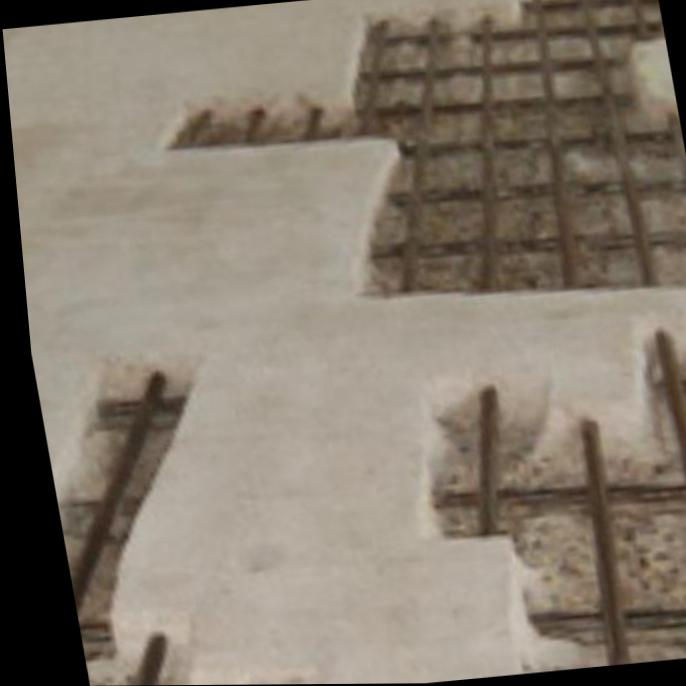damage: (170, 0, 686, 294), (425, 341, 686, 671), (48, 376, 177, 686)
